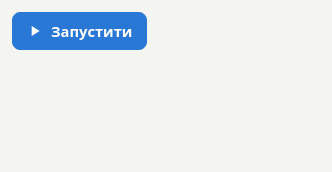
RunControl - діаграма станів кнопки запуску › idle -> running -> failed для набору з дефектом
The width and height of the screenshot is (332, 172).
Click the button: (80, 31) [12,12,148,50]
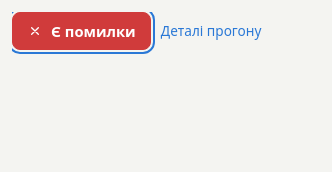
Now the element with class "run-control" has attribute data-state="failed", box [12,12,261,50]
